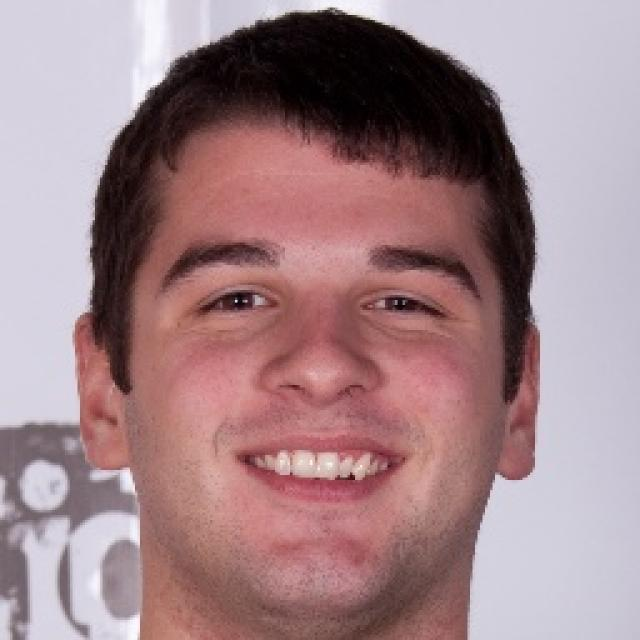earlobe: (83, 436, 134, 473), (496, 448, 538, 484)
eye: (357, 285, 451, 327), (202, 285, 278, 323)
nose: (262, 381, 380, 422)
wholeear: (72, 312, 136, 472), (496, 318, 542, 480)
